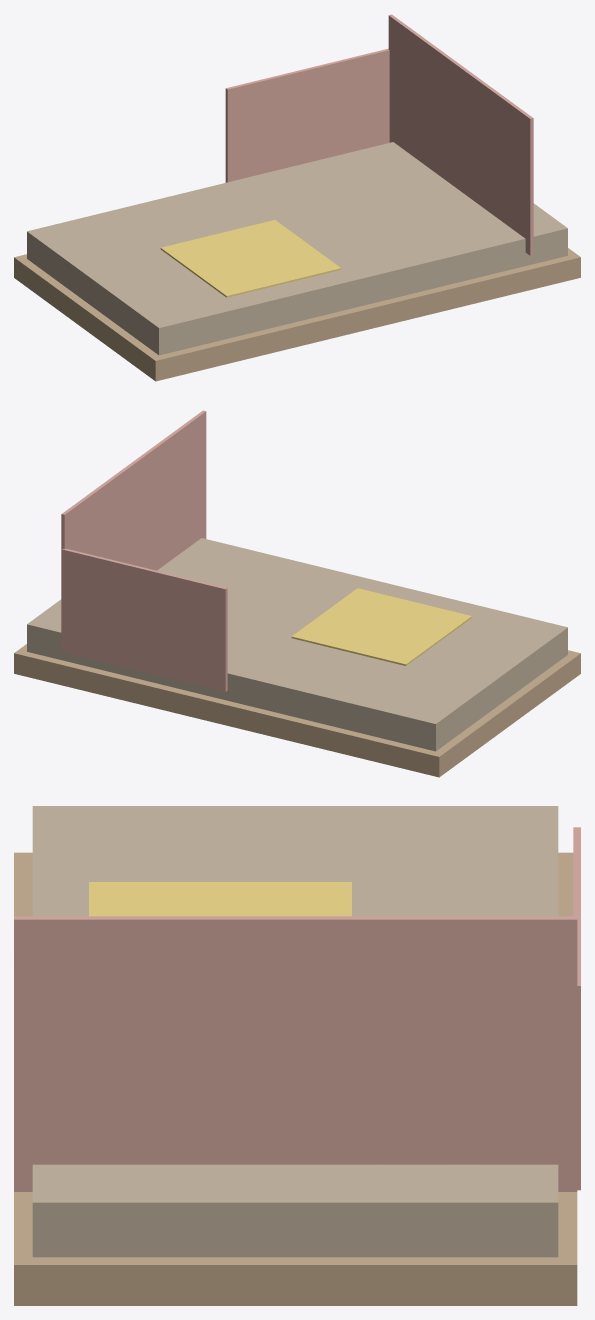
File: prop-gilder-cushion.fbx
3 views of the same model, one above another, from view 1: azimuth 30°, elevation 25°; view 2: azimuth 150°, elevation 25°; view 3: azimuth 270°, elevation 25° (orthographic). The views are drawn at different scales.
Visible parts, largest first — view 1: prop-gilder-cushion; view 2: prop-gilder-cushion; view 3: prop-gilder-cushion.
Boxes of the visible parts, x1=… form: prop-gilder-cushion: x1=14, y1=14, x2=580, y2=381; prop-gilder-cushion: x1=14, y1=410, x2=580, y2=777; prop-gilder-cushion: x1=14, y1=806, x2=580, y2=1305.
Bounding box in the file's own units: 26 × 10 × 15.1.
